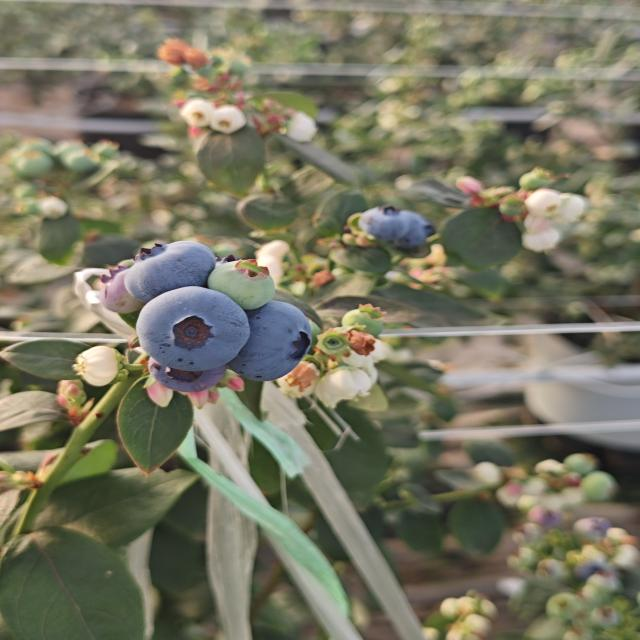ripe: (131, 281, 250, 373), (233, 302, 325, 386), (113, 237, 225, 300), (143, 348, 234, 402), (358, 200, 417, 242), (393, 205, 438, 252)
